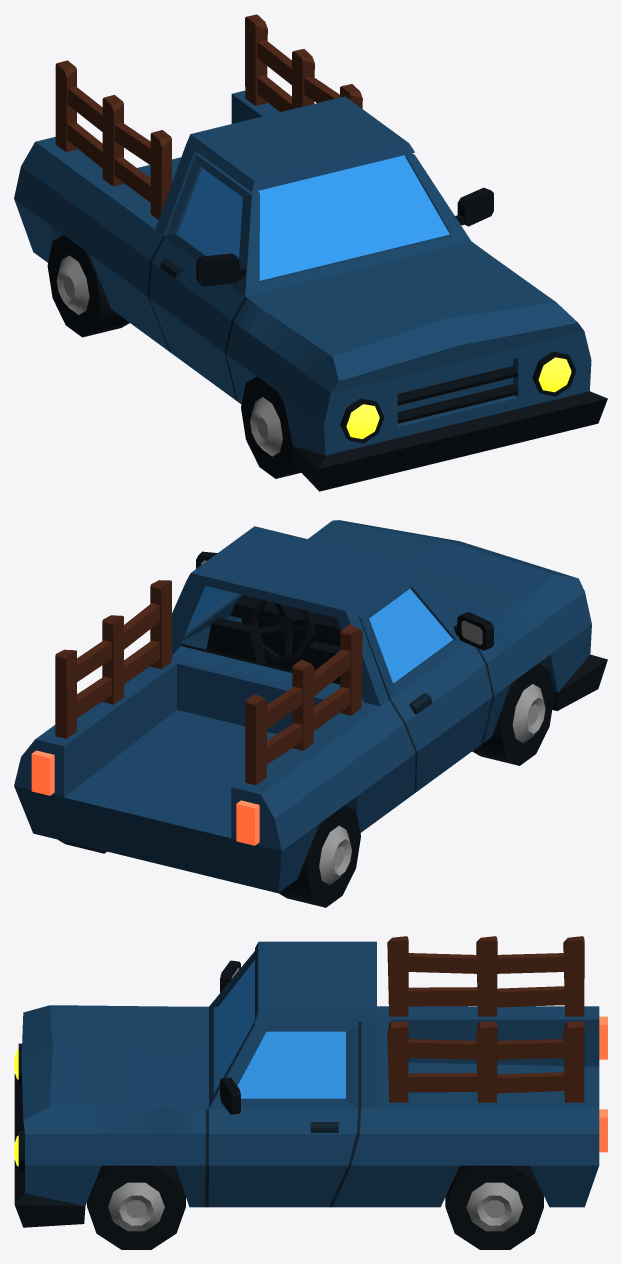
Rendered from Pickup.fbx.
3 views of the same model, one above another, from view 1: azimuth 30°, elevation 25°; view 2: azimuth 150°, elevation 25°; view 3: azimuth 270°, elevation 25° (orthographic). The views are drawn at different scales.
Parts seen in each view (by area): view 1: Pickup; view 2: Pickup; view 3: Pickup.
Part boxes in pixels (x1,y1,x2,y2): Pickup: (14,14,607,491); Pickup: (14,520,607,907); Pickup: (14,936,607,1249).
Bounding box in the file's own units: 72.45 × 54.2 × 136.
